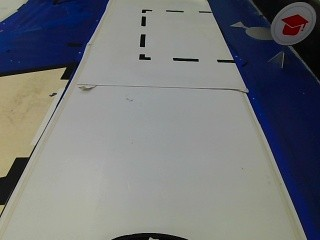school: (269, 3, 318, 46)
